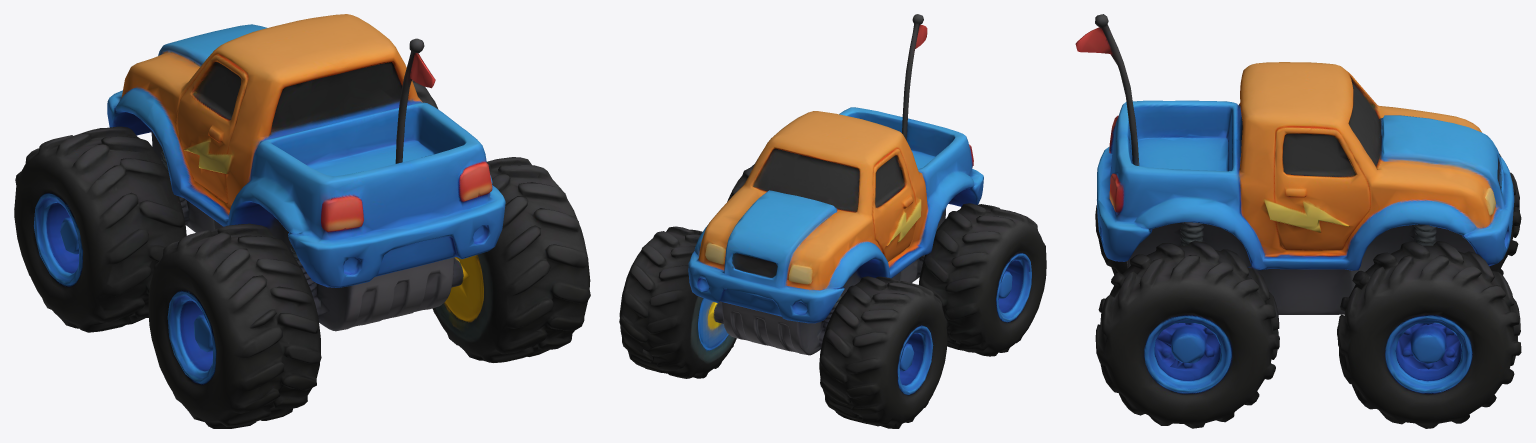
The model's file is rc_car.glb.
3 renders of one model, left to right at view 1: azimuth 30°, elevation 25°; view 2: azimuth 150°, elevation 25°; view 3: azimuth 270°, elevation 25°, orthographic. The views are drawn at different scales.
Parts seen in each view (by area): view 1: tripo_node_4afdc9d7-a1a2-4dbb-b263-5390e0104885; view 2: tripo_node_4afdc9d7-a1a2-4dbb-b263-5390e0104885; view 3: tripo_node_4afdc9d7-a1a2-4dbb-b263-5390e0104885.
Boxes of the visible parts, x1,y1,x2,y2 form: tripo_node_4afdc9d7-a1a2-4dbb-b263-5390e0104885: (14, 14, 590, 428); tripo_node_4afdc9d7-a1a2-4dbb-b263-5390e0104885: (619, 14, 1046, 428); tripo_node_4afdc9d7-a1a2-4dbb-b263-5390e0104885: (1075, 14, 1521, 428).
Bounding box in the file's own units: 0.8497 × 0.8481 × 1.
1 material, 1 textured.
